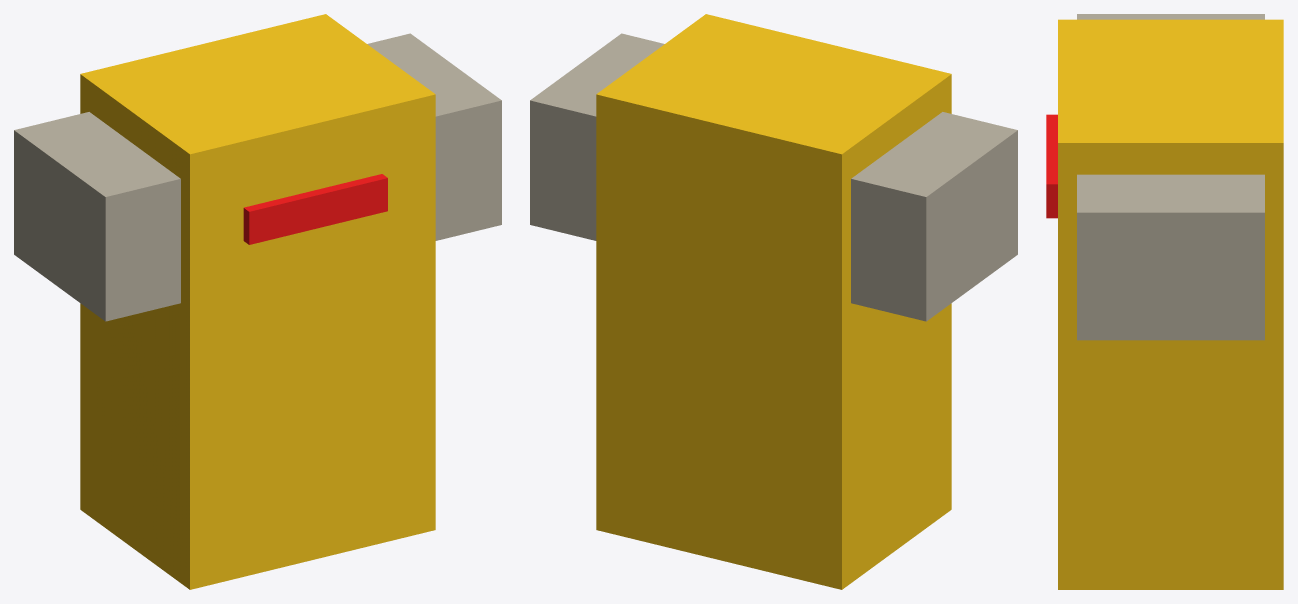
The model's file is slowBruteWindup.obj.
3 views of the same model, side by side, from view 1: azimuth 30°, elevation 25°; view 2: azimuth 150°, elevation 25°; view 3: azimuth 270°, elevation 25° (orthographic). The views are drawn at different scales.
Bounding box in the file's own units: 2 × 2.1 × 1.01.
